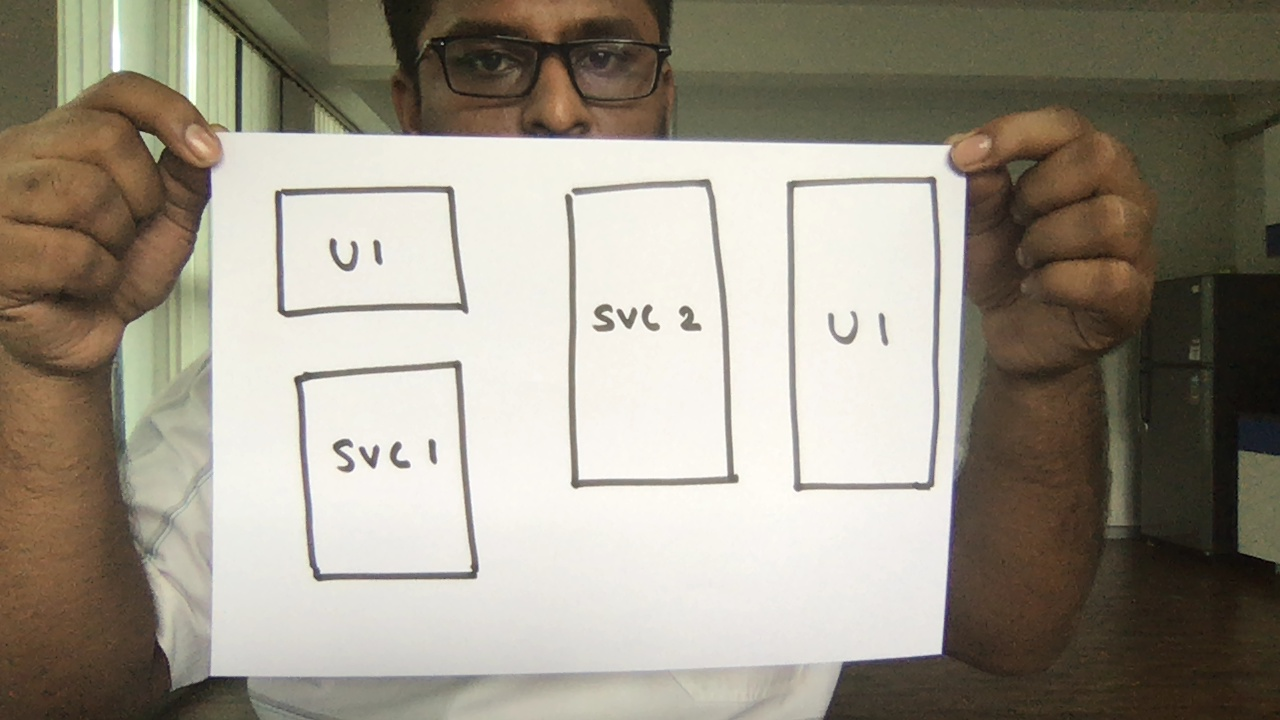ec2: (562, 176, 740, 492), (291, 358, 483, 586)
ui: (782, 174, 946, 499), (265, 179, 473, 323)
